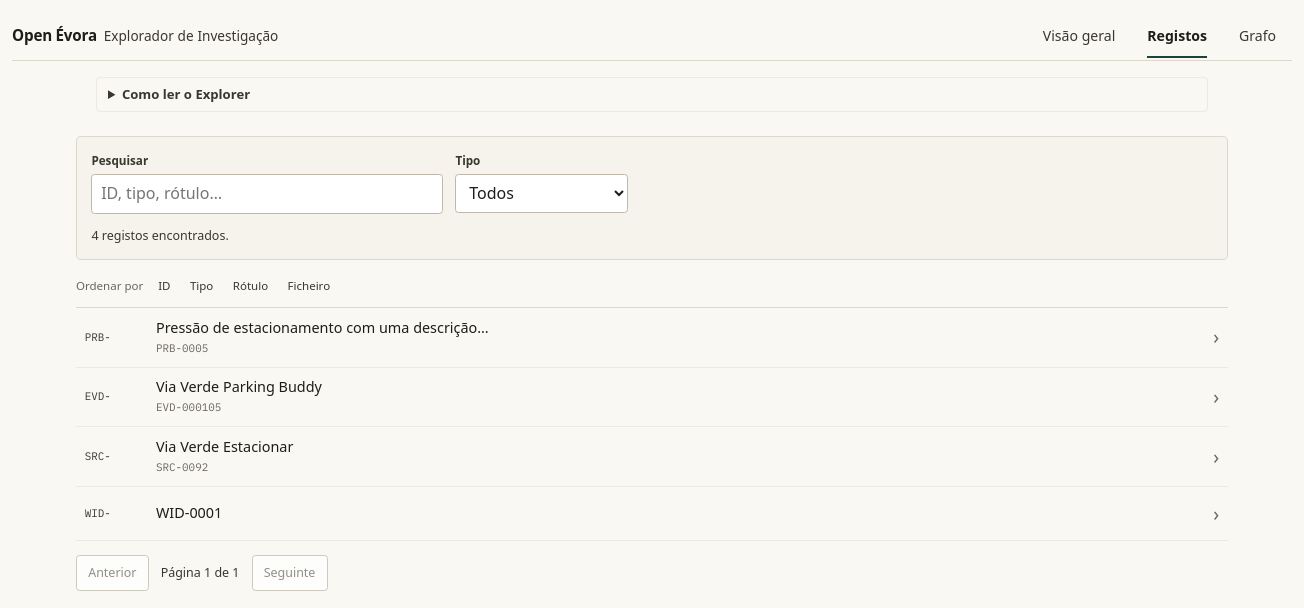
Test case: Explorer — Records workflow (fake provider) › a malformed/failed detail load produces a local actionable error, still reachable back to Records via the breadcrumb
Click the button "PRB- Pressão de estacionamento com uma descrição… PRB-0005 ›" at (322, 327), box top-left (76, 308), bottom-right (1228, 368)
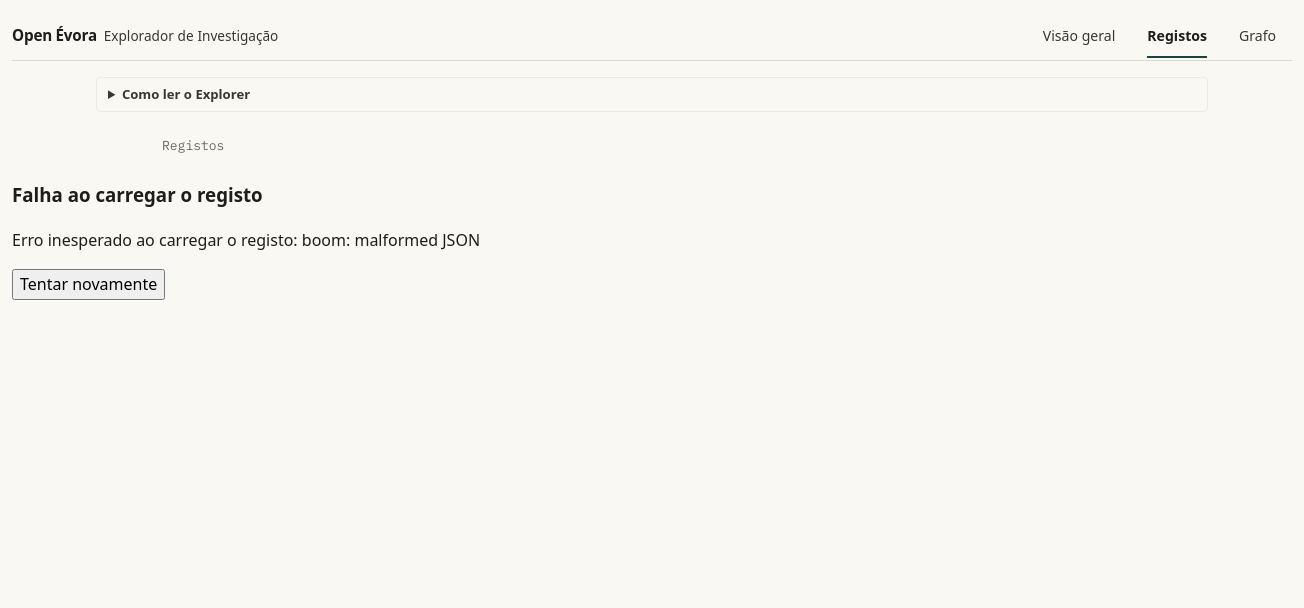
Now the message is shown, box top-left (12, 182), bottom-right (480, 300)
Now the text "Erro inesperado ao carregar o registo: boom: malformed JSON" is shown, box top-left (12, 229), bottom-right (480, 251)
Click the 2nd button "Registos" at (193, 146), box top-left (162, 136), bottom-right (224, 156)
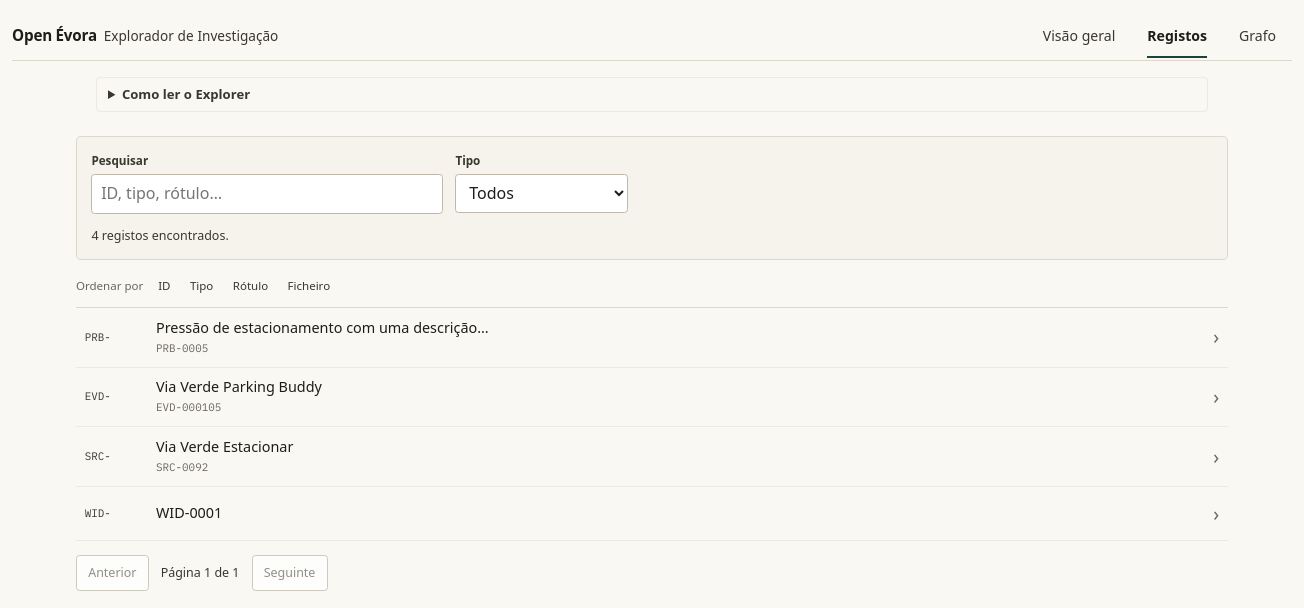
Now the button "EVD- Via Verde Parking Buddy EVD-000105 ›" is shown, box top-left (76, 368), bottom-right (1228, 427)
